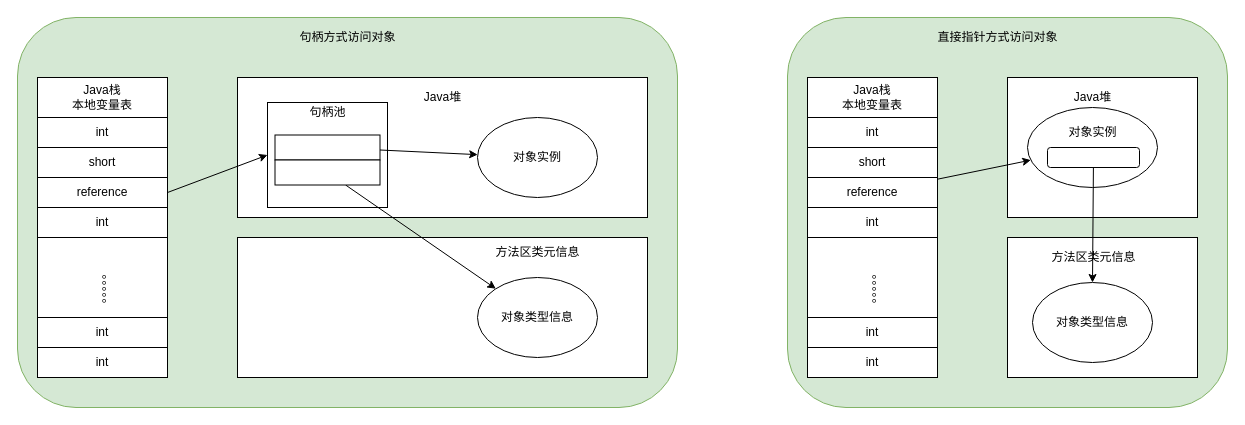
Image size: 1245x425. Some labels were removed from this diagram. The box of each missing label's shape, as (x1, y1, x2, y2) in pixels:
对象的实例指针: (274, 134, 380, 160)
对象的类信息指针: (274, 159, 380, 185)
对象类信息指针: (1046, 146, 1140, 168)
